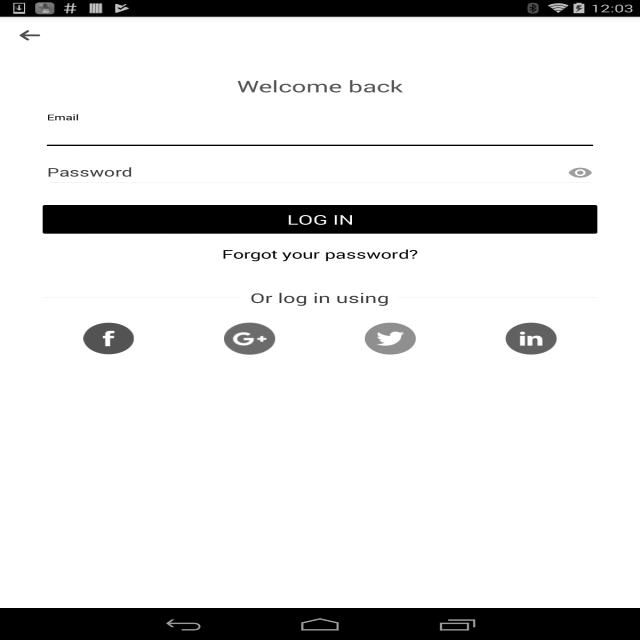Button: (43, 205, 597, 234)
EditText: (43, 120, 597, 151), (43, 158, 597, 188)
ImageButton: (564, 158, 598, 188)
ImageView: (39, 322, 180, 354), (179, 322, 320, 354), (320, 322, 461, 354), (461, 322, 602, 354), (0, 17, 60, 54)
TextView: (213, 240, 427, 268), (237, 75, 403, 97), (250, 288, 389, 306)
